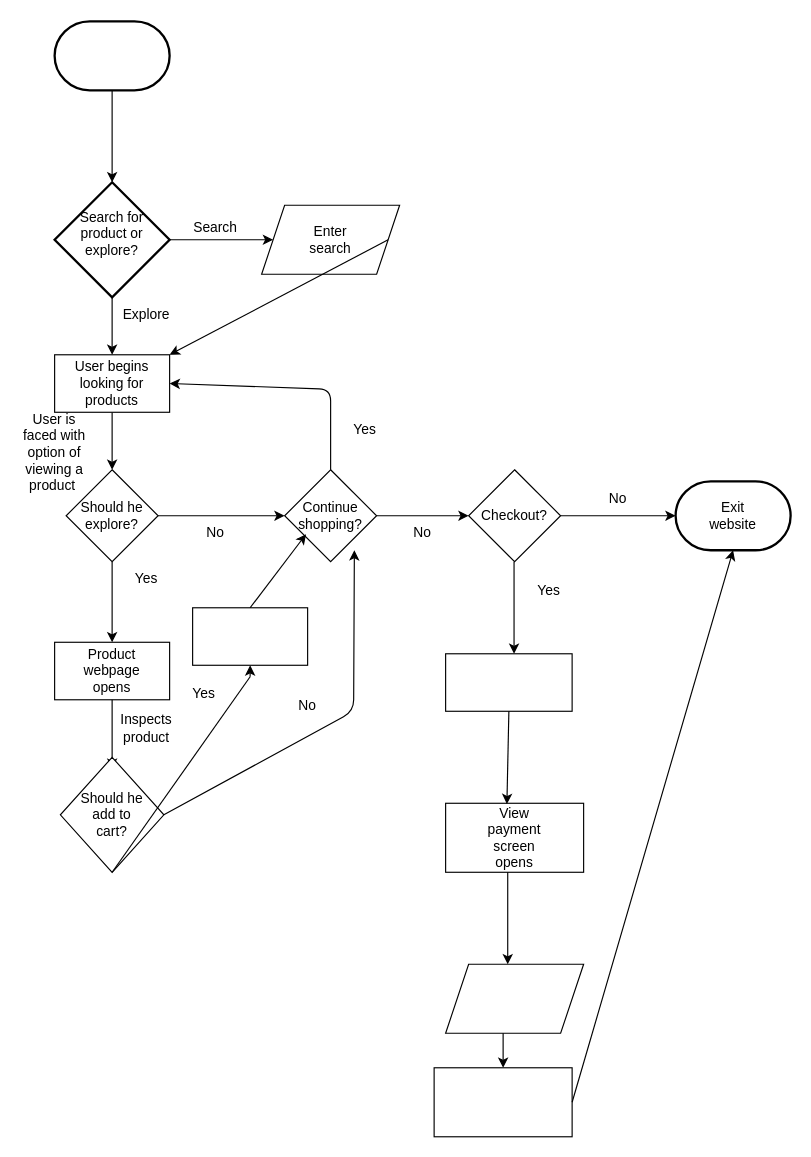
This 811x1157 diagram has some shape labels left out. The box of each missing label's shape, as (x1, y1, x2, y2) in pixels:
Added to cart confirmation: (191, 607, 308, 665)
Enter payment information: (444, 963, 584, 1033)
Receive order confirmation screen and receive an email: (433, 1067, 572, 1137)
User enters the website: (53, 20, 170, 91)
View Cart screen opens: (444, 653, 572, 711)
